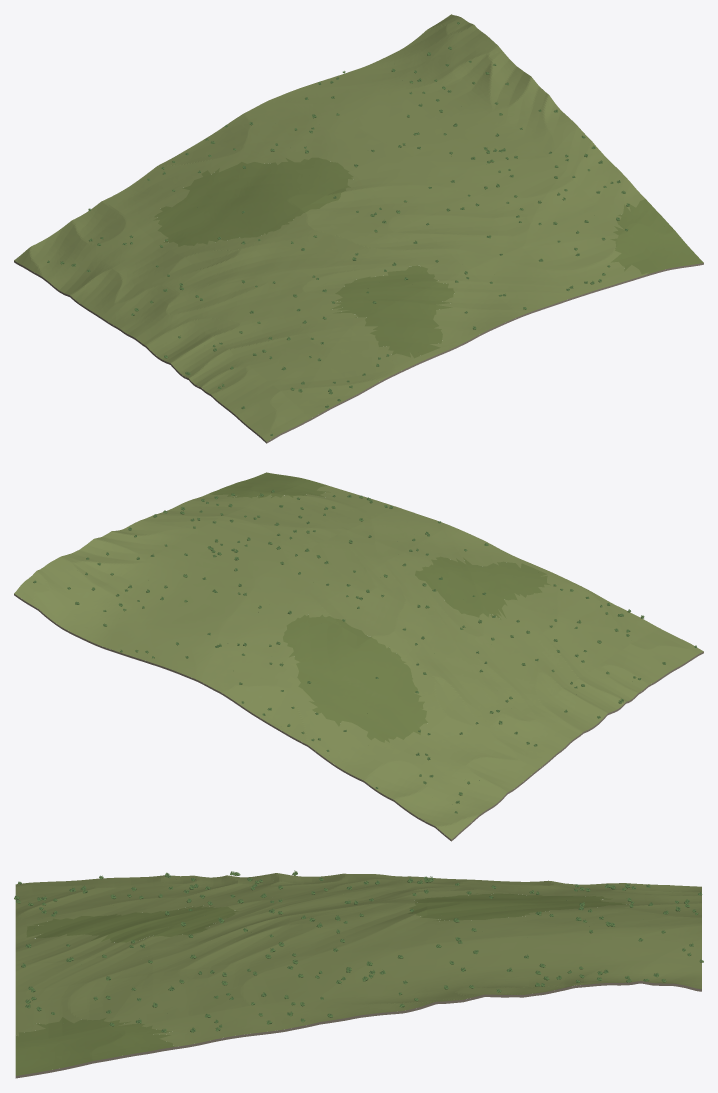
The model's file is parca_+3_-7-yakin.glb.
3 renders of one model, top to bottom at view 1: azimuth 30°, elevation 25°; view 2: azimuth 150°, elevation 25°; view 3: azimuth 270°, elevation 25°, orthographic. The views are drawn at different scales.
Parts seen in each view (by area): view 1: parca_+3_-7_arazi, parca_+3_-7_bitkiler; view 2: parca_+3_-7_arazi, parca_+3_-7_bitkiler; view 3: parca_+3_-7_arazi, parca_+3_-7_bitkiler.
Boxes of the visible parts, x1,y1,x2,y2 form: parca_+3_-7_arazi: (14, 14, 703, 443); parca_+3_-7_bitkiler: (47, 22, 629, 435); parca_+3_-7_arazi: (14, 472, 703, 841); parca_+3_-7_bitkiler: (33, 490, 696, 813); parca_+3_-7_arazi: (15, 873, 701, 1078); parca_+3_-7_bitkiler: (14, 870, 703, 1054).
Size of the model in its own units: 1000 by 322 by 1006.
